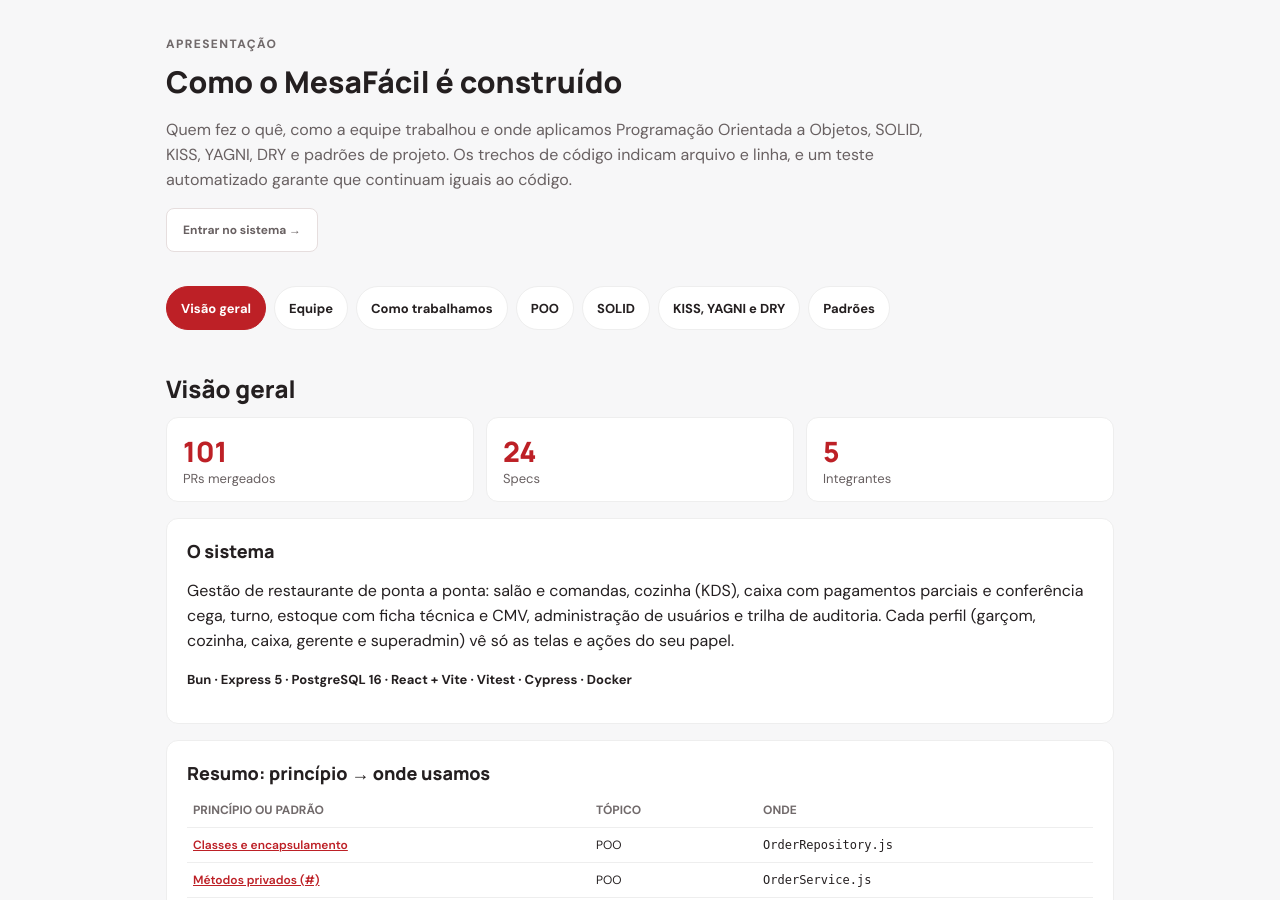
Página /apresentacao (specs 023 e 024) › trocar de tópico pela barra, pelo resumo e por "próximo" mostra o tópico escolhido
The image size is (1280, 900).
Expected: the heading "Visão geral" is shown, [166,372,296,405]
Click the link "SOLID". click: (616, 308)
box: [582,286,650,330]
(page scrolled)
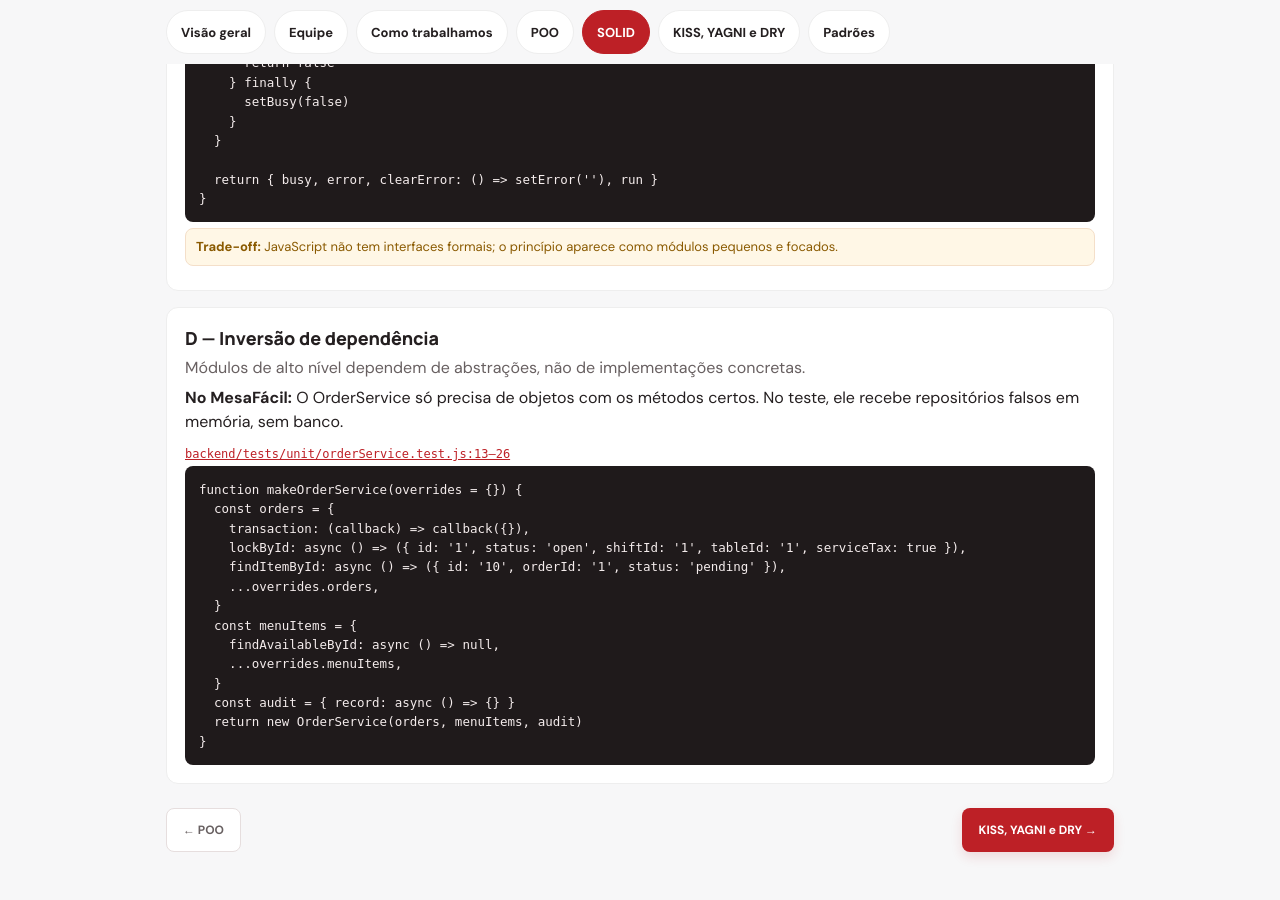
Expected: the link "SOLID" is shown, [582,10,650,54]
Click the link "KISS, YAGNI e DRY →". click: (1038, 830)
box: [962,808,1114,852]
(page scrolled)
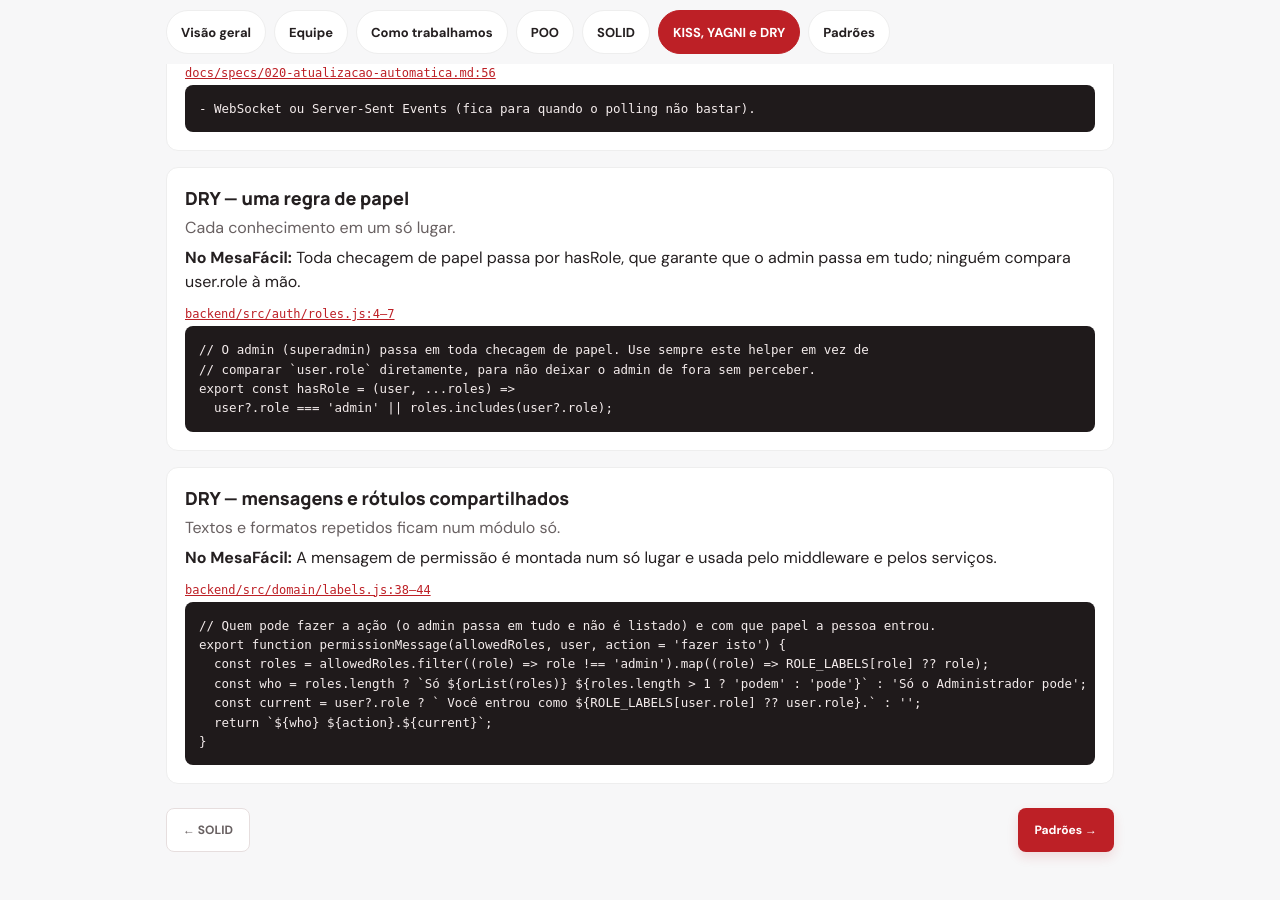
Click the link "← SOLID". click: (208, 830)
box: [166,808,250,852]
(page scrolled)
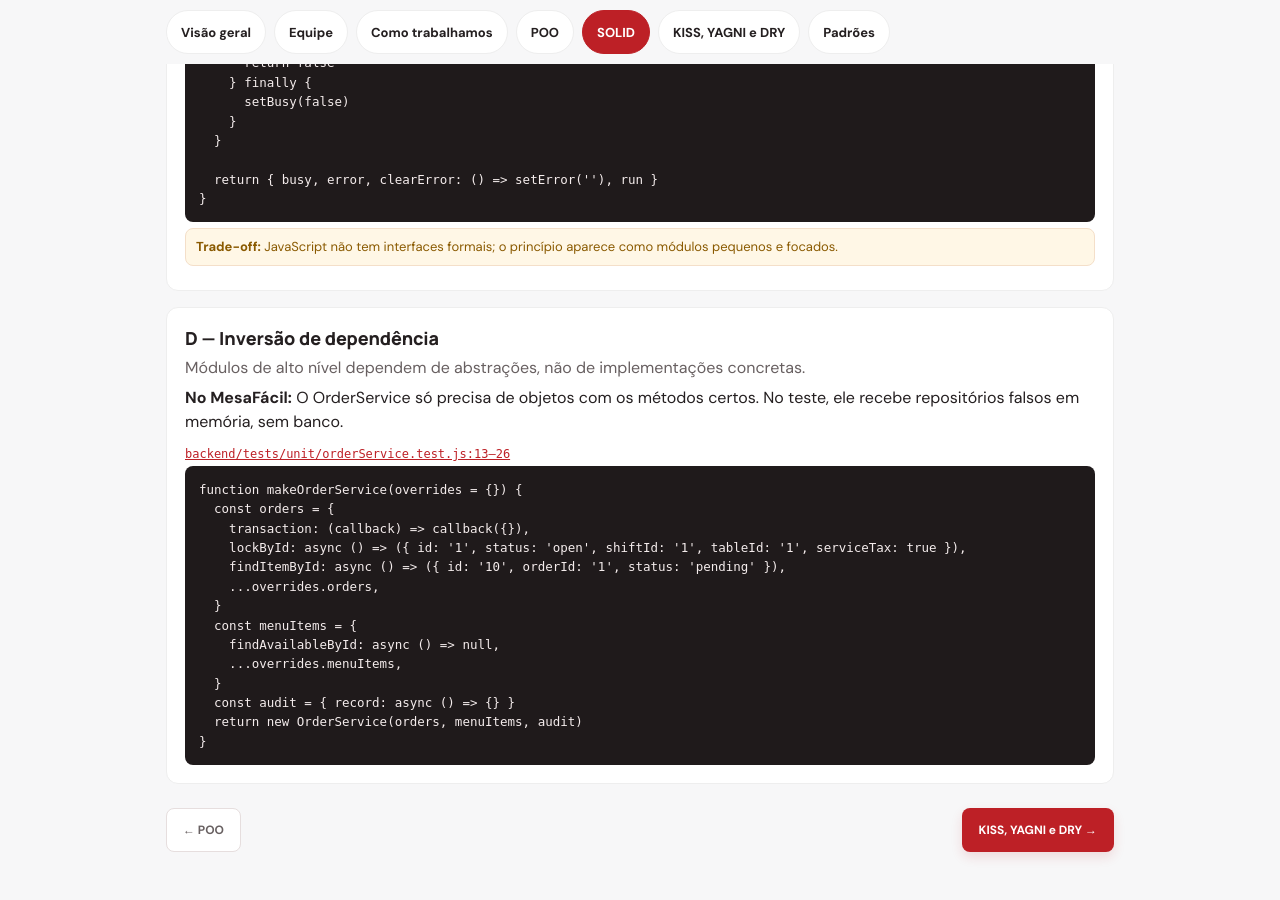
Click the link "Visão geral". click: (216, 32)
box: [166,10,266,54]
(page scrolled)
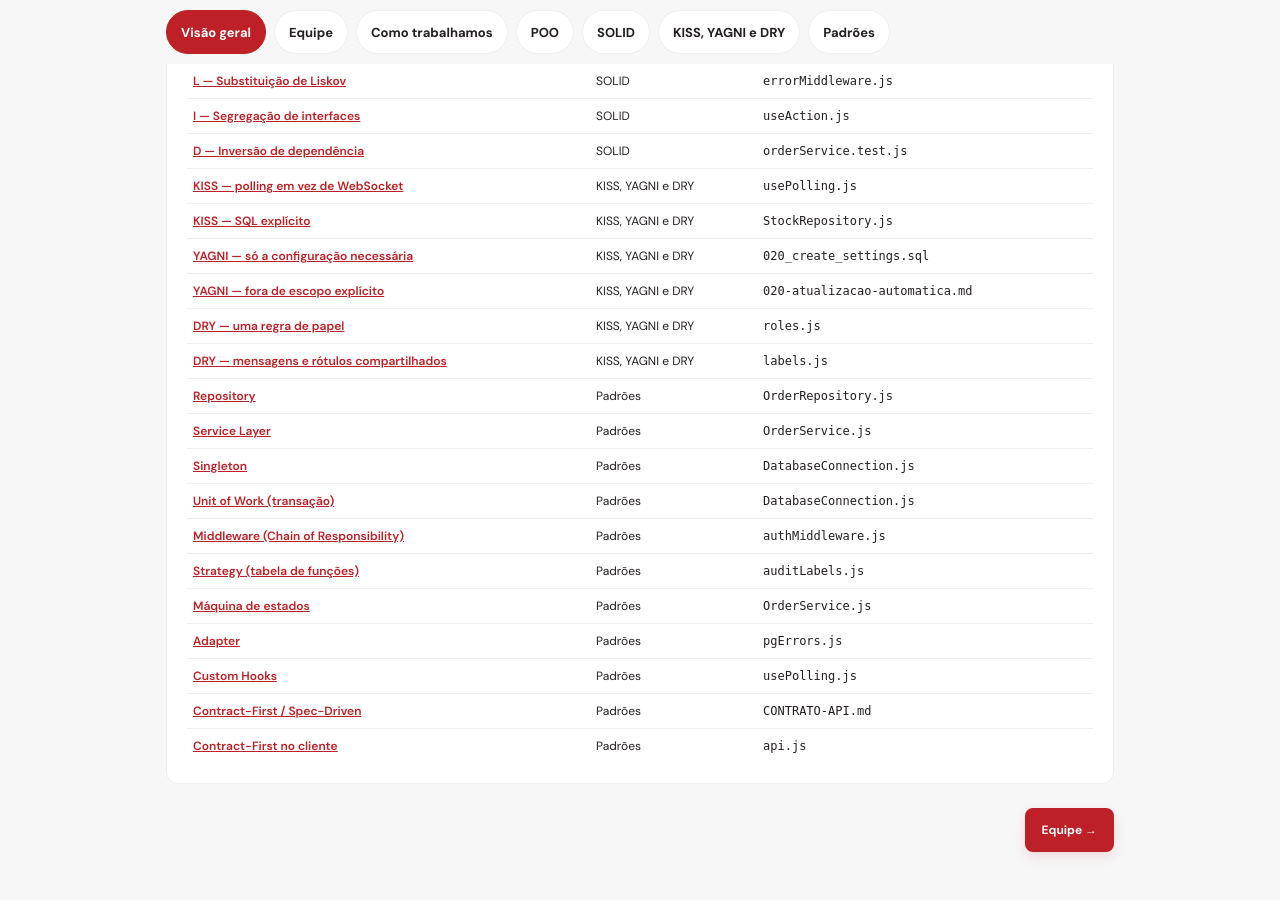
Click the link "Repository". click: (224, 396)
box: [193,388,256,404]
(page scrolled)
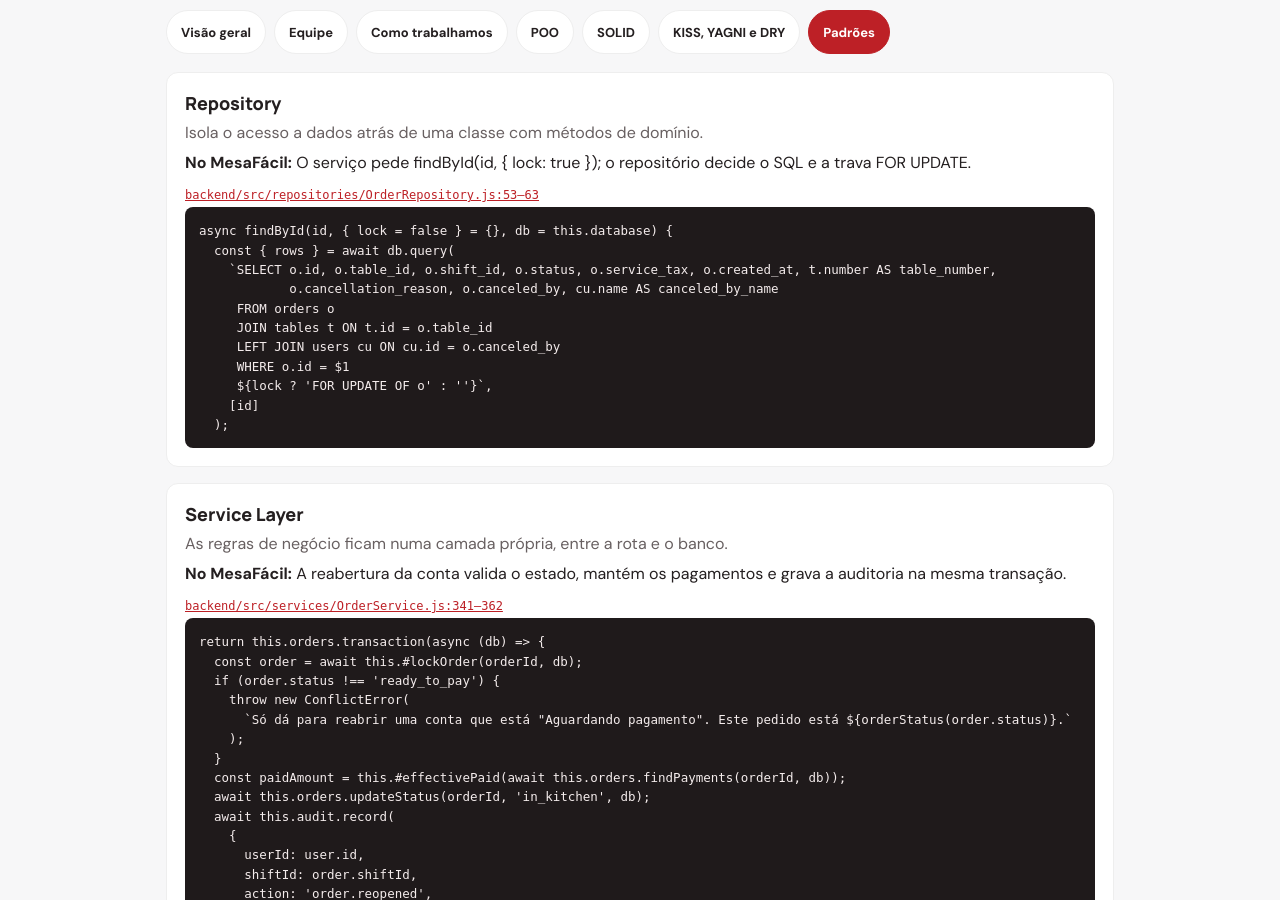
Now the element "Repository" is shown, box [166,72,1114,467]
